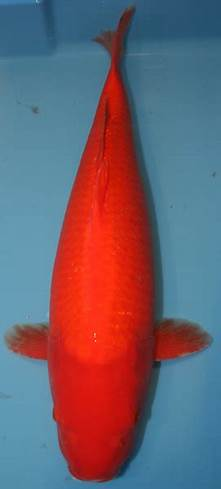red: (4, 6, 211, 483)
